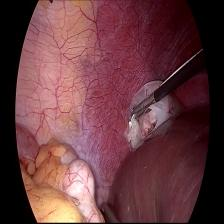Grasper: (130, 91, 157, 122)
Irrigator: (98, 197, 120, 224)
Specimen Bag: (123, 76, 182, 152)
